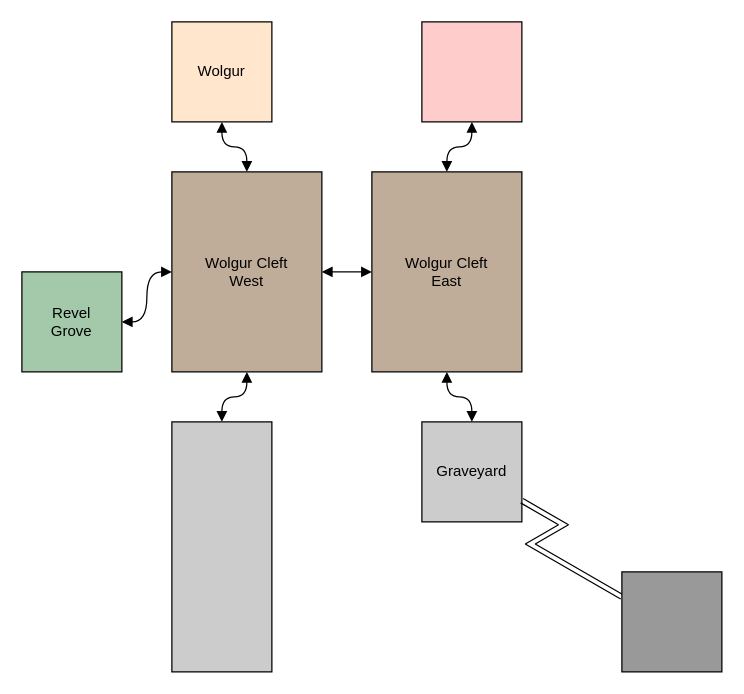
The diagram is 744 pixels wide and 694 high, and some of its shapes have lost their labels. Each missing label, with the centre of its shape:
Catacombs: (671,621)
Docks: (471,71)
Wolgur Passage: (221,546)
